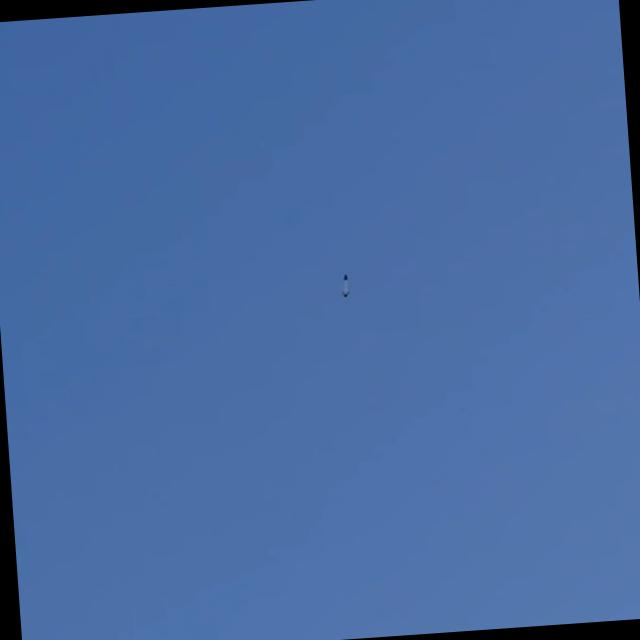rocket: (340, 276, 349, 298)
